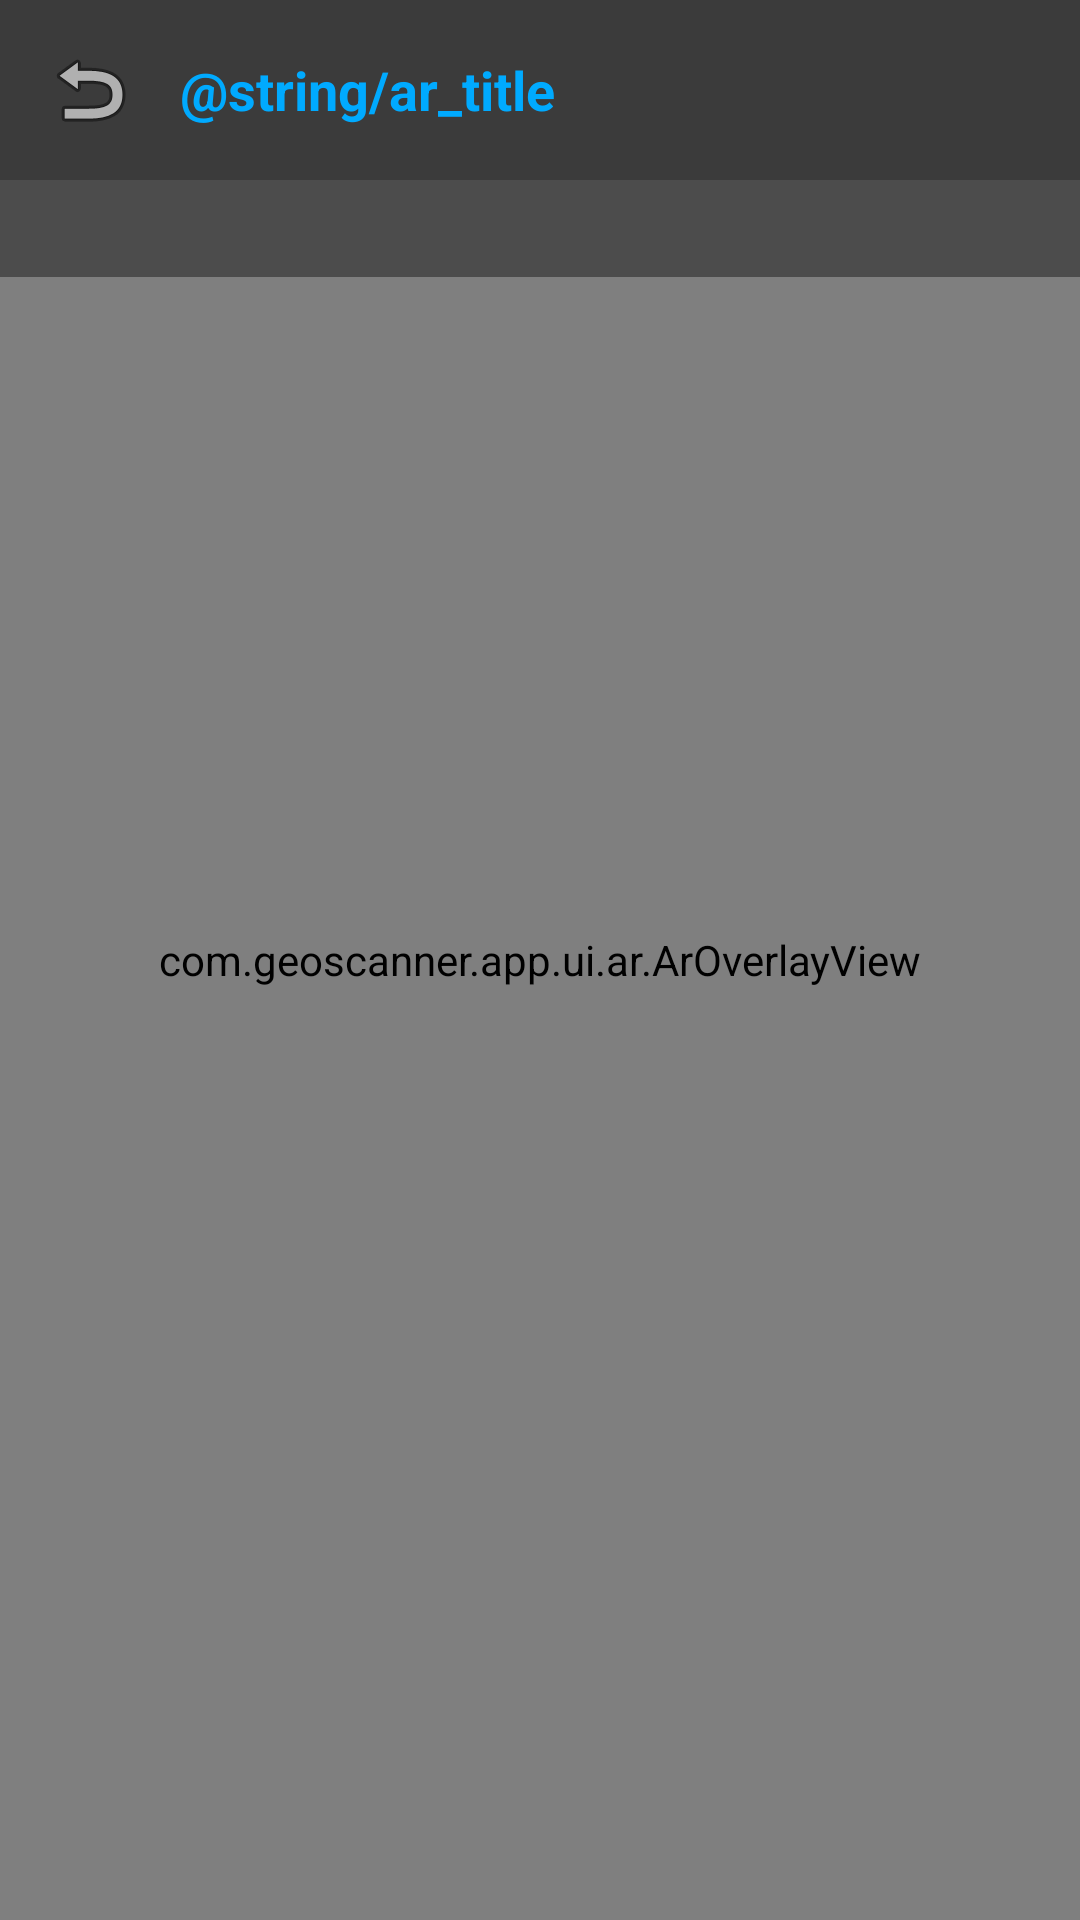

Where to tap for icons on this 1080 x 1920 app screen, as (x=x, y=y):
revert: (x=91, y=90)
